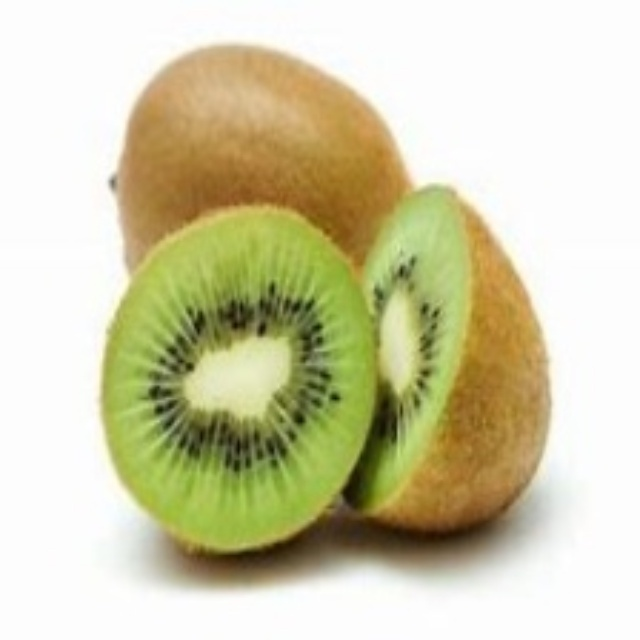kiwi: (112, 206, 367, 557), (343, 180, 561, 542), (119, 44, 411, 270)
